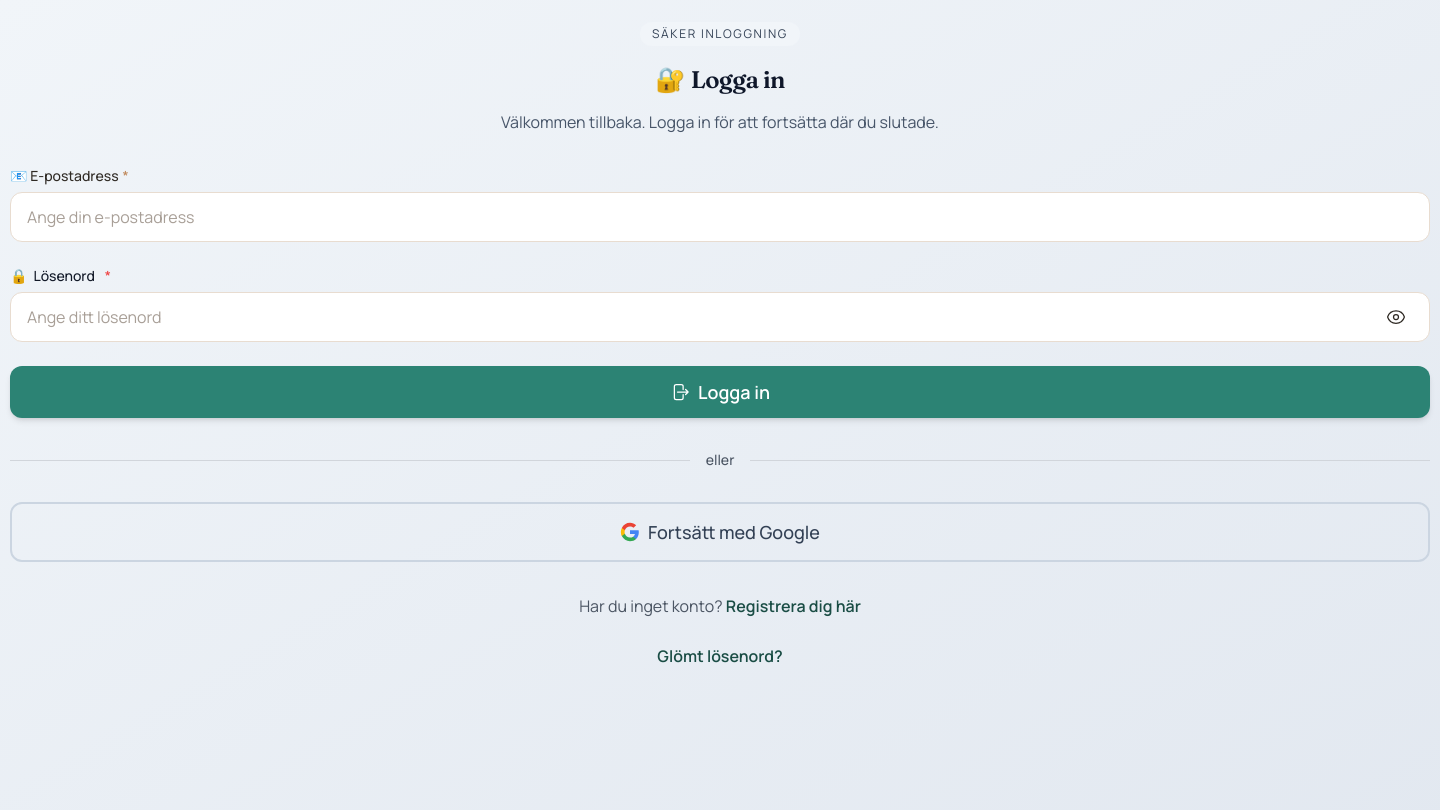
LoginForm › shows timeout error message when timeout occurs
Step 1. Type "test@example.com" into the field with placeholder "Ange din e-postadress" → (720, 217), box top-left (10, 192), bottom-right (1430, 242)
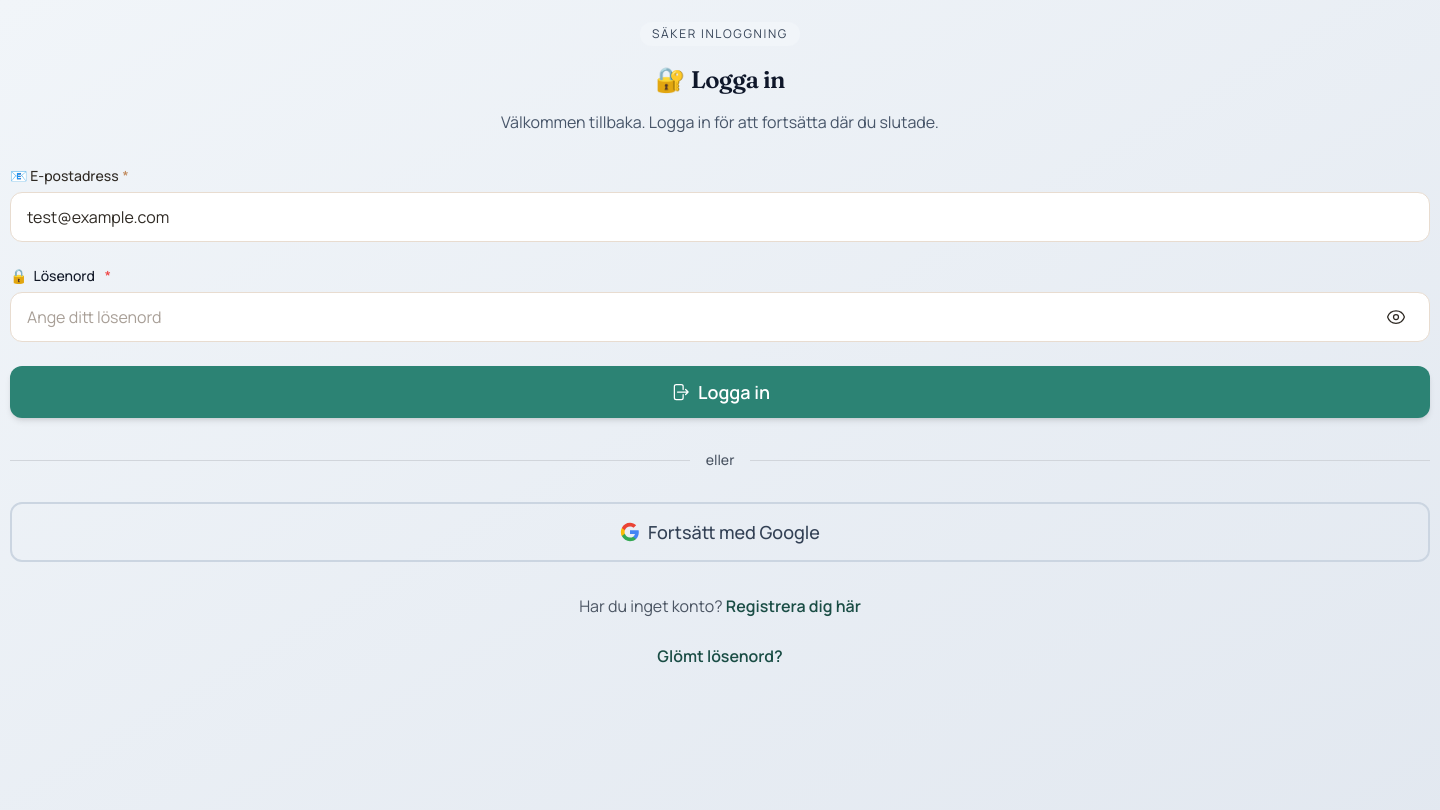
Step 2. Type "pass123" into the password field with placeholder "Ange ditt lösenord" → (720, 317), box top-left (10, 292), bottom-right (1430, 342)
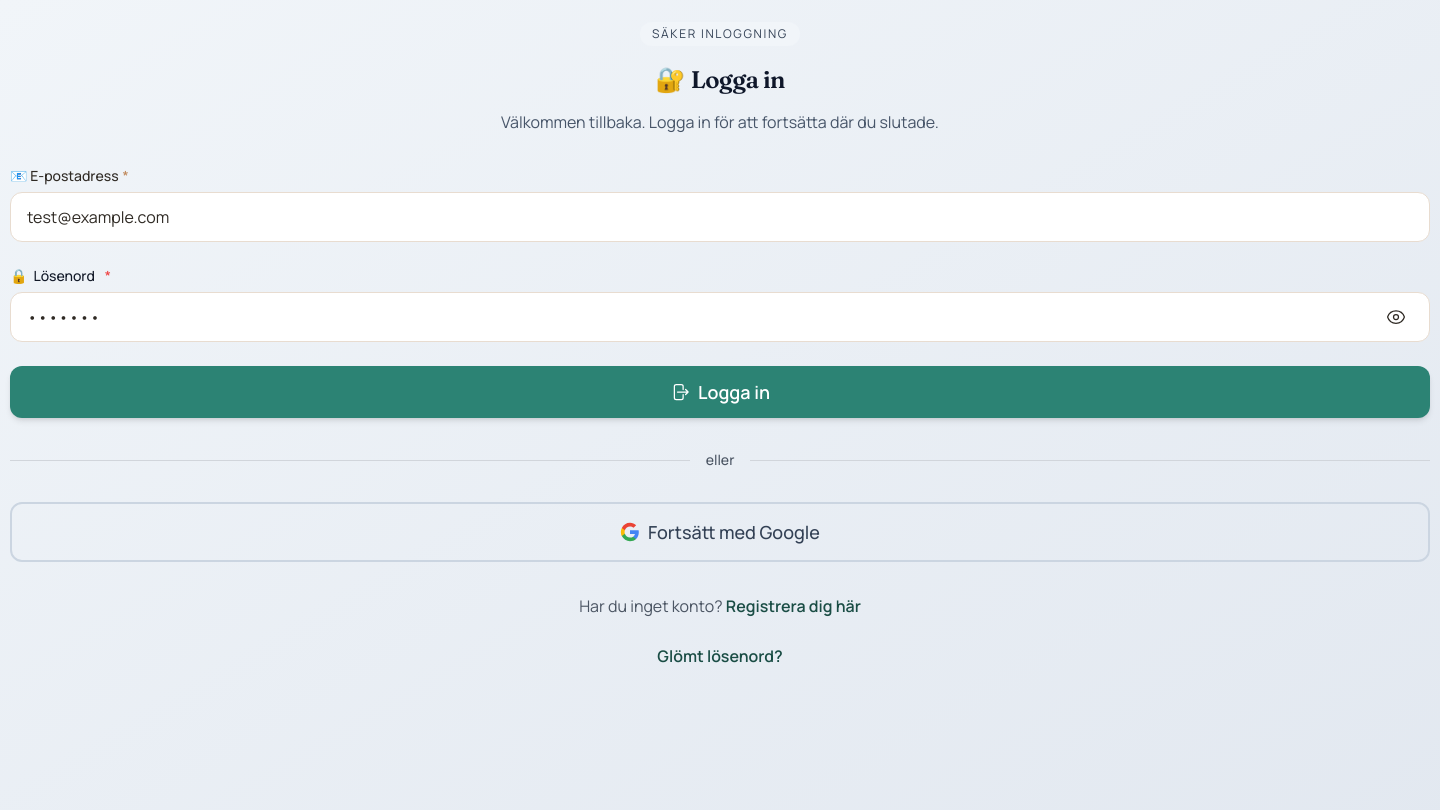
Step 3. Click the button "Logga in" → (720, 392), box top-left (10, 366), bottom-right (1430, 418)
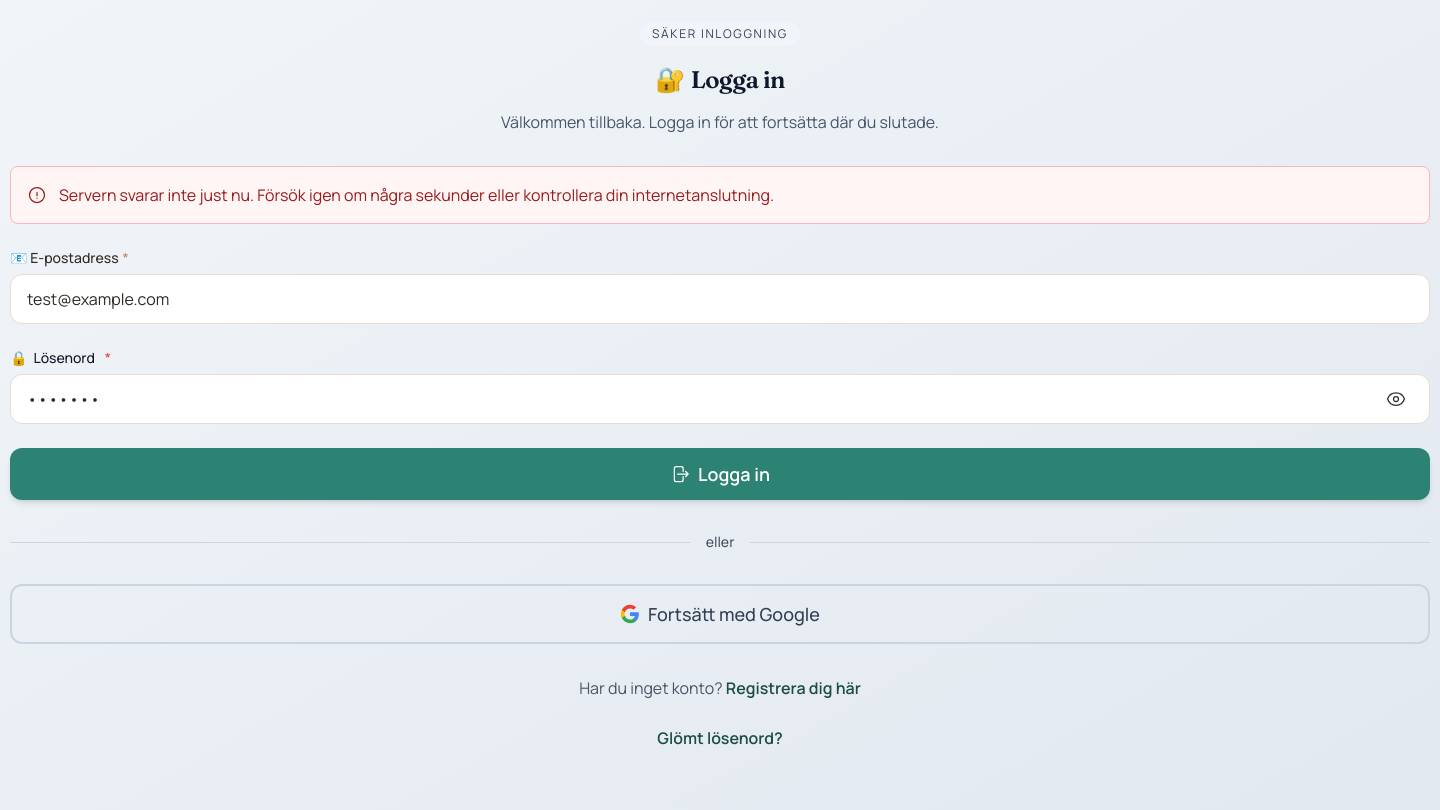
Expected: the text "Servern svarar inte" is shown, top-left (59, 184), bottom-right (774, 206)
